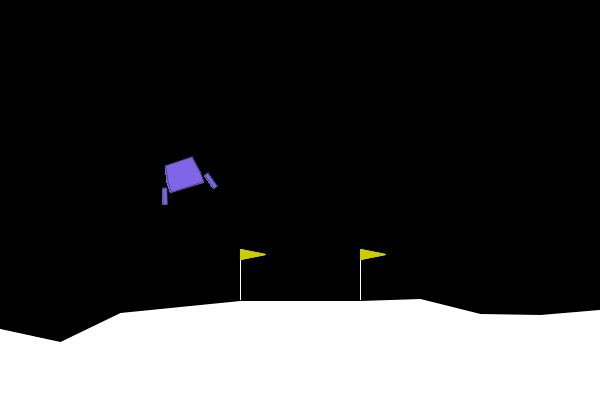lander: (149, 150, 219, 207)
